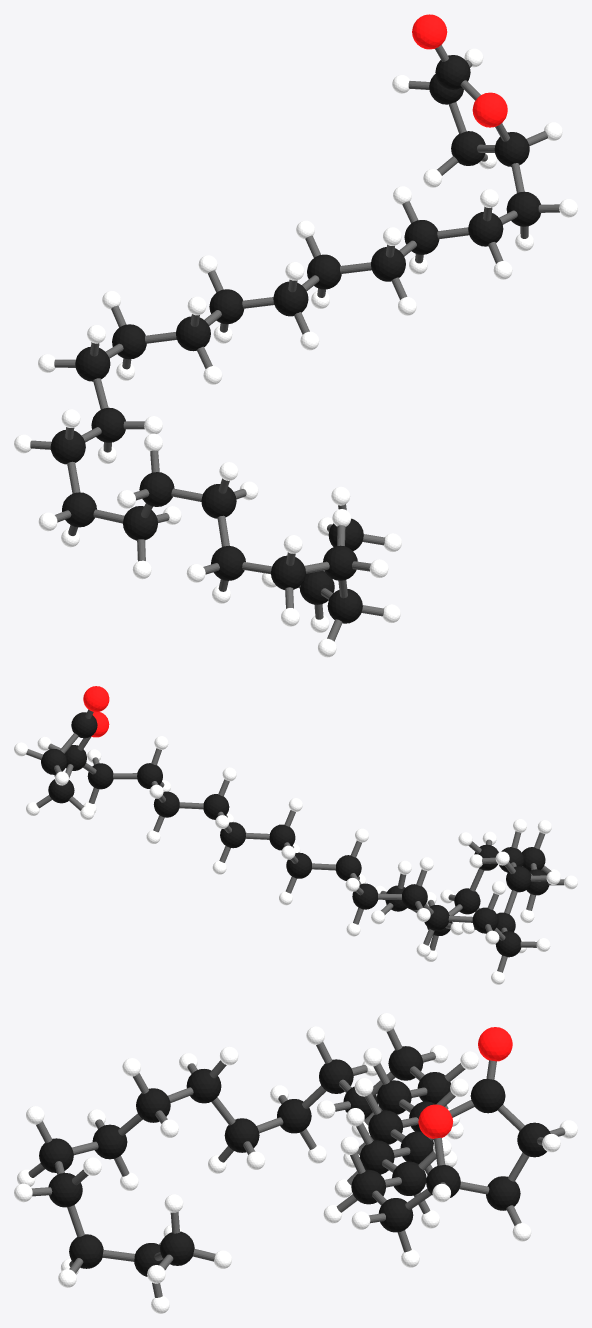
Rendered from molecule.glb.
The picture shows the model from 3 angles, top to bottom: view 1: azimuth 30°, elevation 25°; view 2: azimuth 150°, elevation 25°; view 3: azimuth 270°, elevation 25°; orthographic projection. The views are drawn at different scales.
Visible parts, largest first — view 1: geometry_26, geometry_27, geometry_25, geometry_9, geometry_17, geometry_13, geometry_22, geometry_11, geometry_15, geometry_19, geometry_7, geometry_2 (+14 smaller); view 2: geometry_26, geometry_2, geometry_25, geometry_7, geometry_21, geometry_10, geometry_16, geometry_12, geometry_14, geometry_24, geometry_9, geometry_20 (+9 smaller); view 3: geometry_26, geometry_27, geometry_25, geometry_23, geometry_2, geometry_9, geometry_5, geometry_0, geometry_7, geometry_3, geometry_21, geometry_19 (+15 smaller).
Boxes of the visible parts, <box> form: geometry_26: <box>412,14,447,49</box>; geometry_27: <box>472,92,507,127</box>; geometry_25: <box>435,55,470,89</box>; geometry_9: <box>62,492,96,527</box>; geometry_17: <box>307,254,341,289</box>; geometry_13: <box>112,324,146,359</box>; geometry_22: <box>494,132,529,166</box>; geometry_11: <box>91,407,125,442</box>; geometry_15: <box>209,289,244,324</box>; geometry_19: <box>404,220,439,254</box>; geometry_7: <box>139,472,174,506</box>; geometry_2: <box>327,589,362,623</box>; geometry_26: <box>83,686,109,711</box>; geometry_2: <box>454,888,480,914</box>; geometry_25: <box>71,712,97,738</box>; geometry_7: <box>506,866,531,892</box>; geometry_21: <box>87,763,113,789</box>; geometry_10: <box>472,907,498,933</box>; geometry_16: <box>269,824,295,850</box>; geometry_12: <box>402,884,427,909</box>; geometry_14: <box>336,855,361,880</box>; geometry_24: <box>41,749,66,774</box>; geometry_9: <box>495,931,521,957</box>; geometry_20: <box>137,763,162,788</box>; geometry_26: <box>478,1027,512,1061</box>; geometry_27: <box>418,1104,453,1138</box>; geometry_25: <box>470,1078,505,1113</box>; geometry_23: <box>486,1176,520,1210</box>; geometry_2: <box>69,1234,103,1268</box>; geometry_9: <box>277,1099,311,1133</box>; geometry_5: <box>92,1124,127,1159</box>; geometry_0: <box>160,1231,194,1265</box>; geometry_7: <box>186,1069,221,1103</box>; geometry_3: <box>48,1173,82,1207</box>; geometry_21: <box>378,1198,413,1232</box>; geometry_19: <box>392,1161,426,1195</box>.
Size of the model in its own units: 0.257 by 0.1725 by 0.2103.
